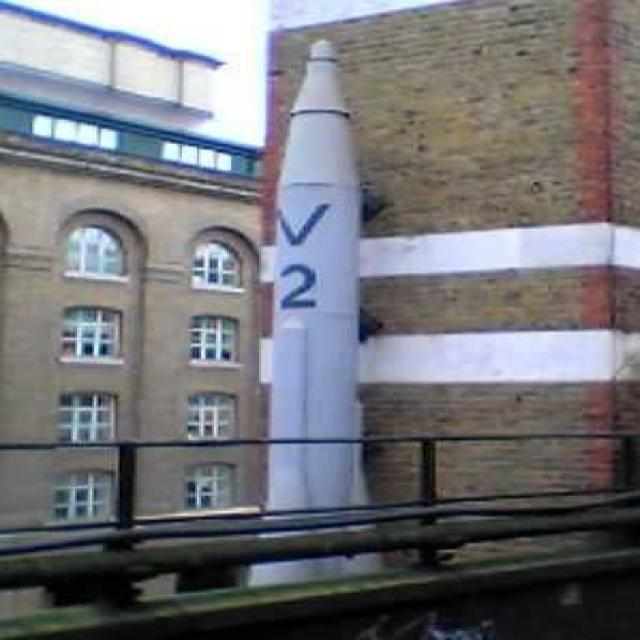missile: (252, 43, 386, 609)
